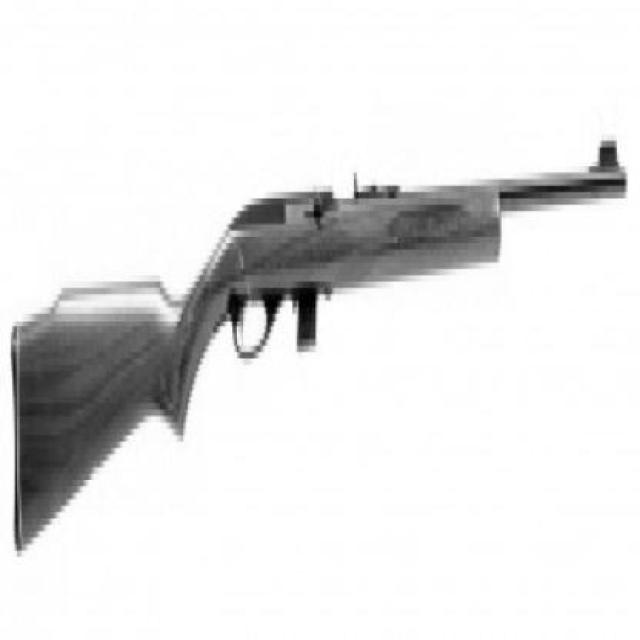weapon: (8, 141, 627, 556)
